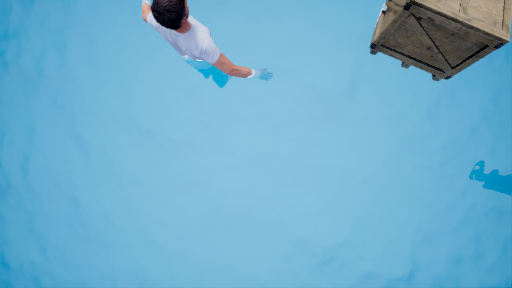person: (138, 1, 269, 91)
